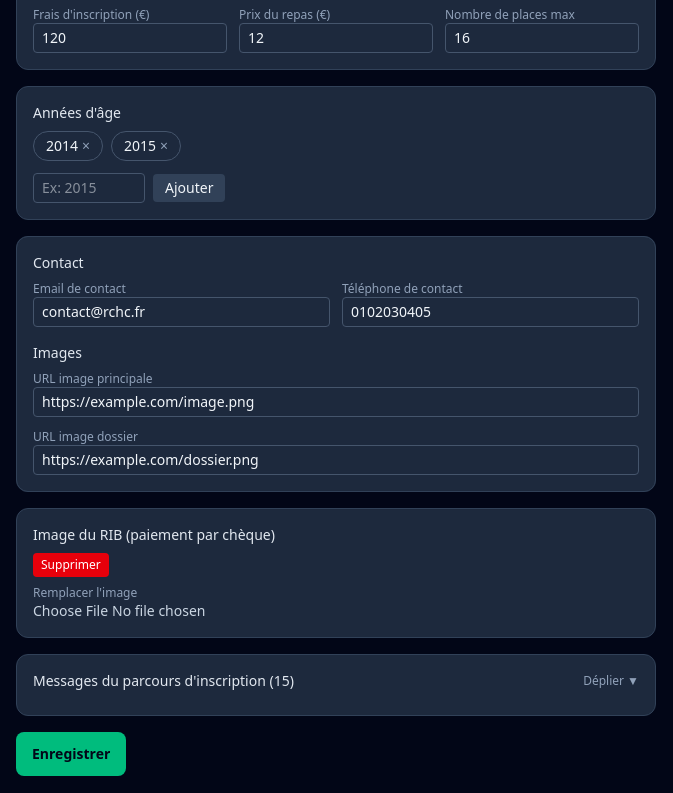
Test case: ParametresInscriptionPage — paramètres figés dès l'ouverture (spec § 2.5, CA 5 et 6) › 409 reçu (onglet ouvert avant l'ouverture) : message du back et resynchronisation de l'édition (CA 11)
(page scrolled)
Click the button "Enregistrer" at x=71, y=754, box 16,732 -> 126,776
(page scrolled)
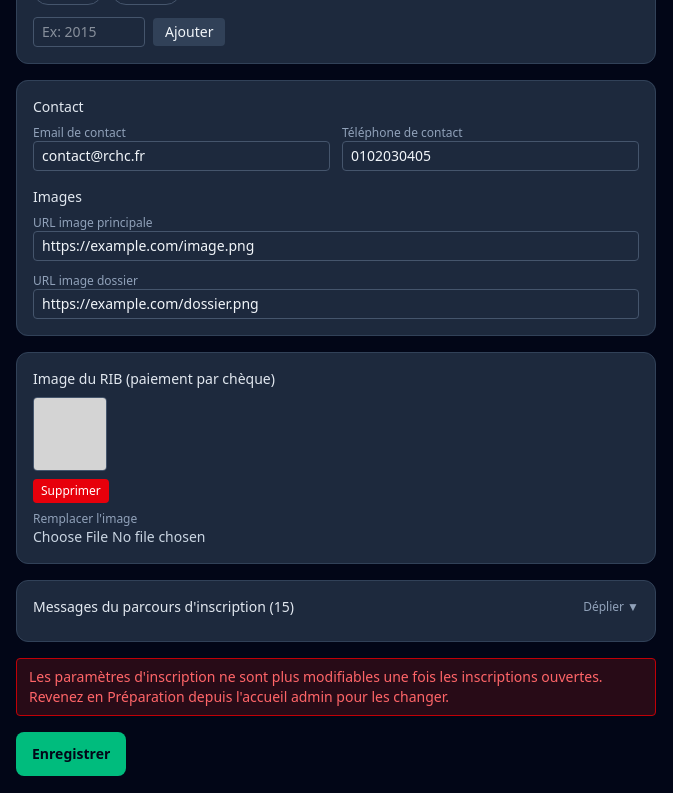
Now the text "Les paramètres d'inscription ne sont plus modifiables une fois les inscriptions ouvertes. Revenez en Préparation depuis " is shown, box 29,667 -> 603,706
